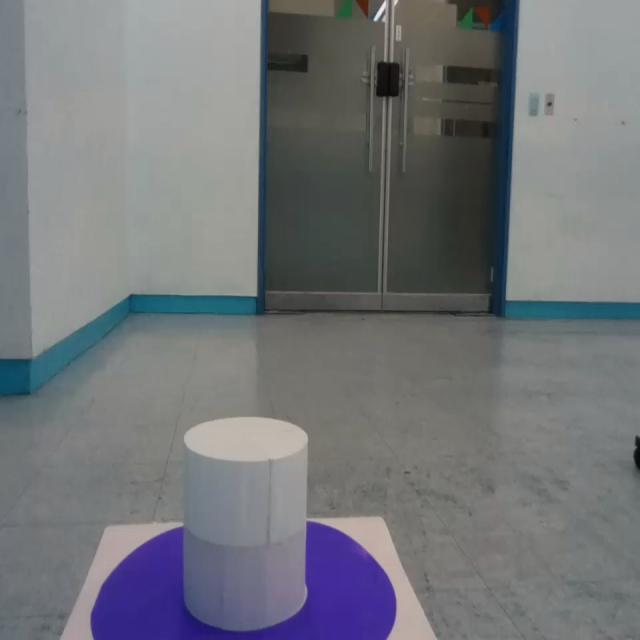cylinder: (180, 415, 310, 630)
